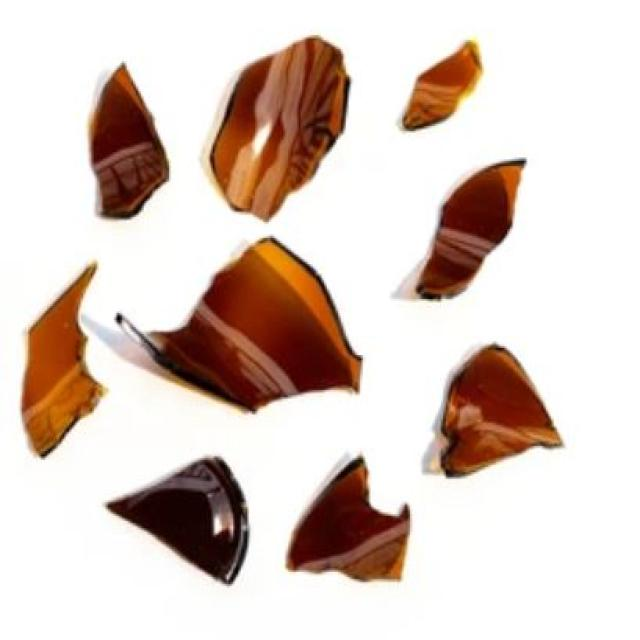electronic: (23, 32, 564, 590)
